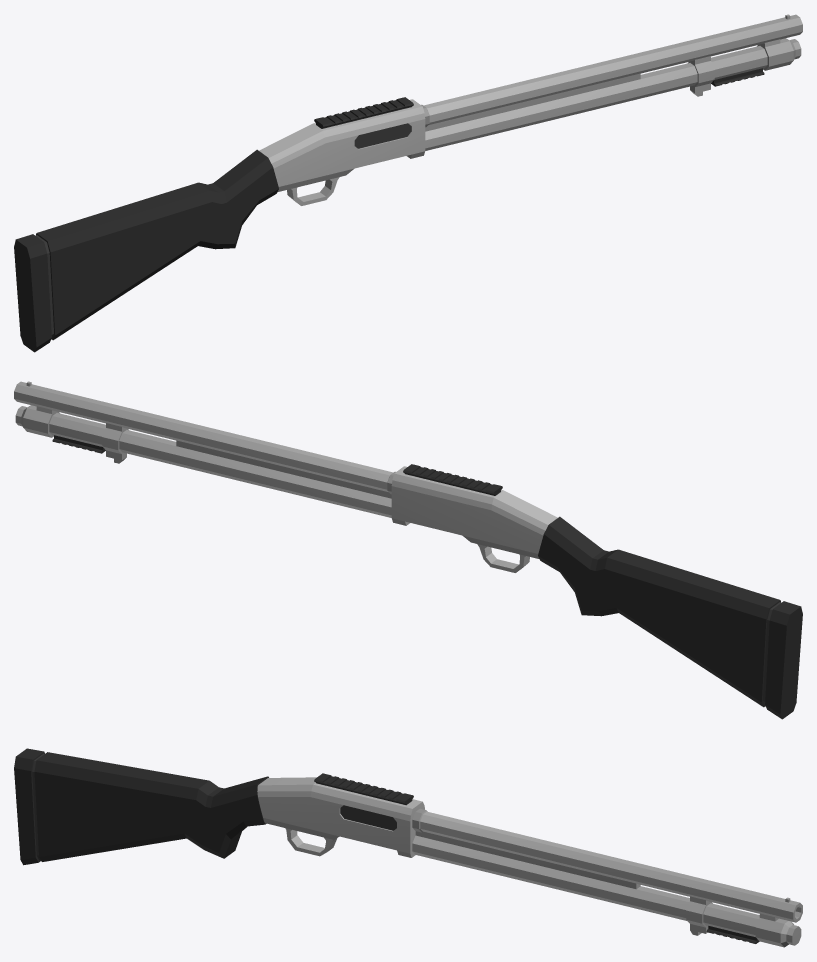
The model's file is Shotgun3_04.fbx.
The picture shows the model from 3 angles, top to bottom: view 1: azimuth 30°, elevation 25°; view 2: azimuth 150°, elevation 25°; view 3: azimuth 330°, elevation 25°; orthographic projection.
Visible parts, largest first — view 1: Shotgun3_04; view 2: Shotgun3_04; view 3: Shotgun3_04.
Boxes of the visible parts, box(x1,y1,x2,y2) form: Shotgun3_04: box(14, 14, 802, 352); Shotgun3_04: box(14, 381, 802, 719); Shotgun3_04: box(14, 748, 802, 947).
Bounding box in the file's own units: 1.18 × 0.226 × 0.0424.
